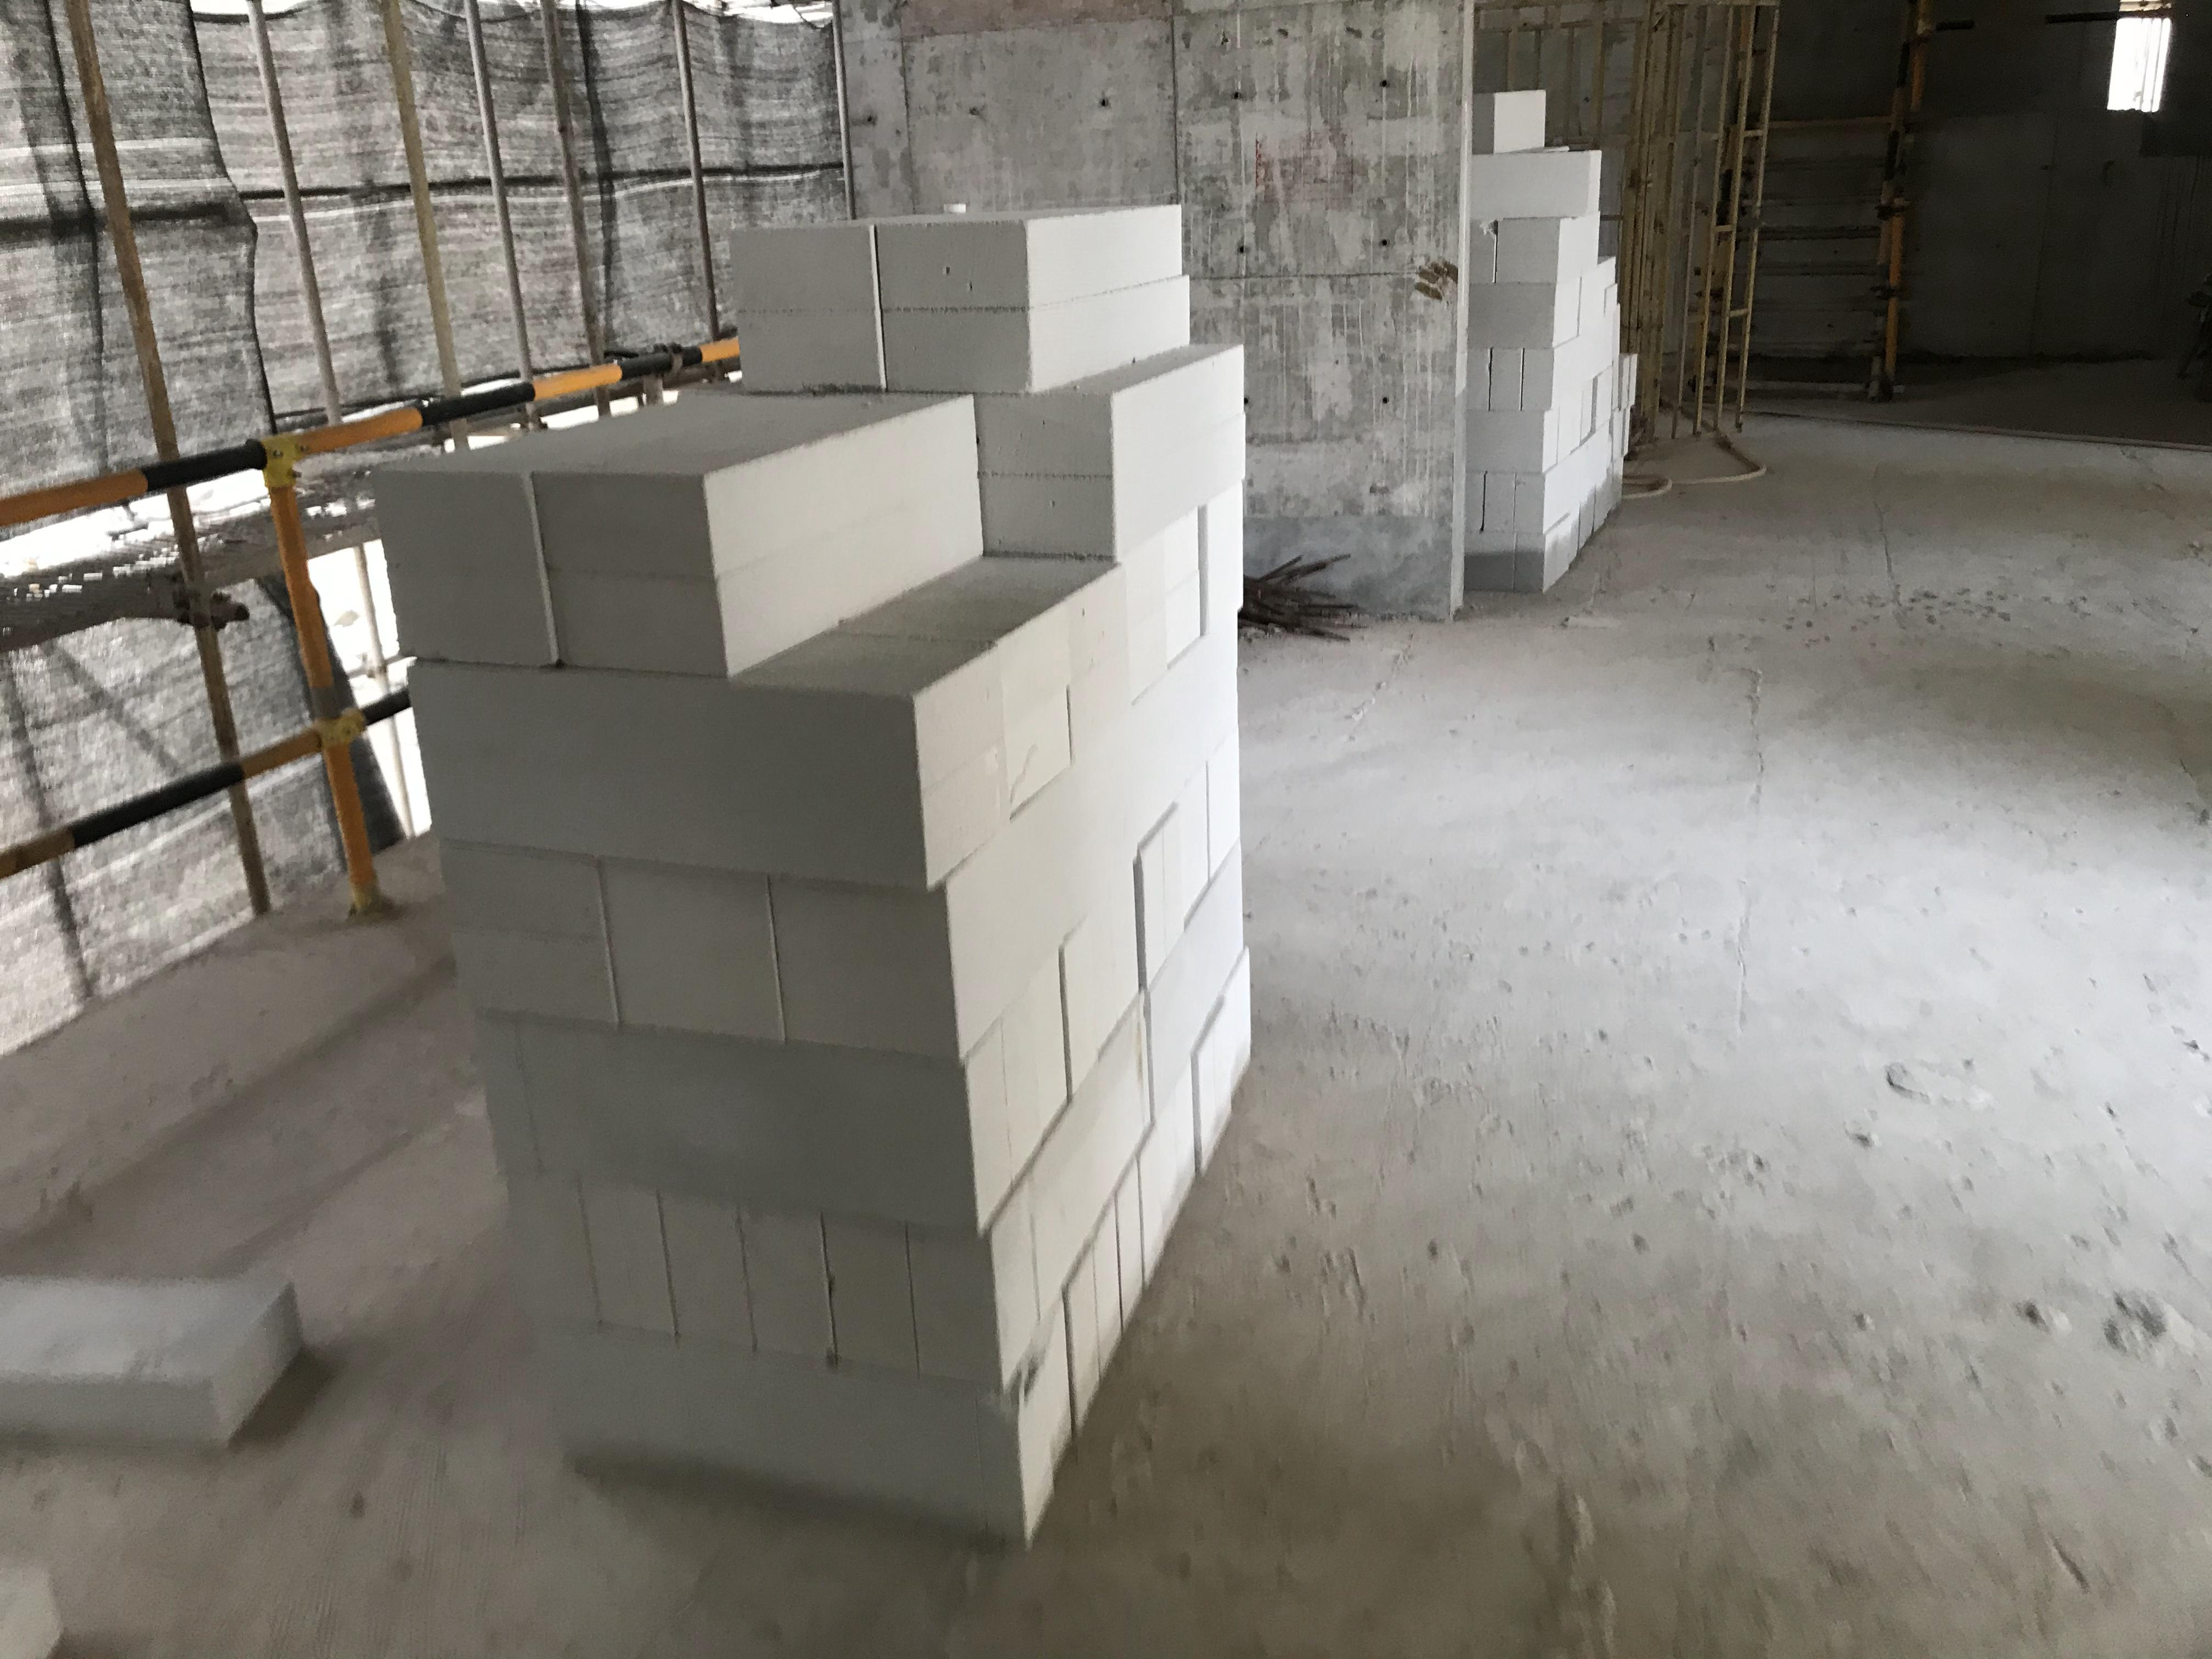brick: (387, 193, 1252, 1542), (1470, 89, 1634, 592)
